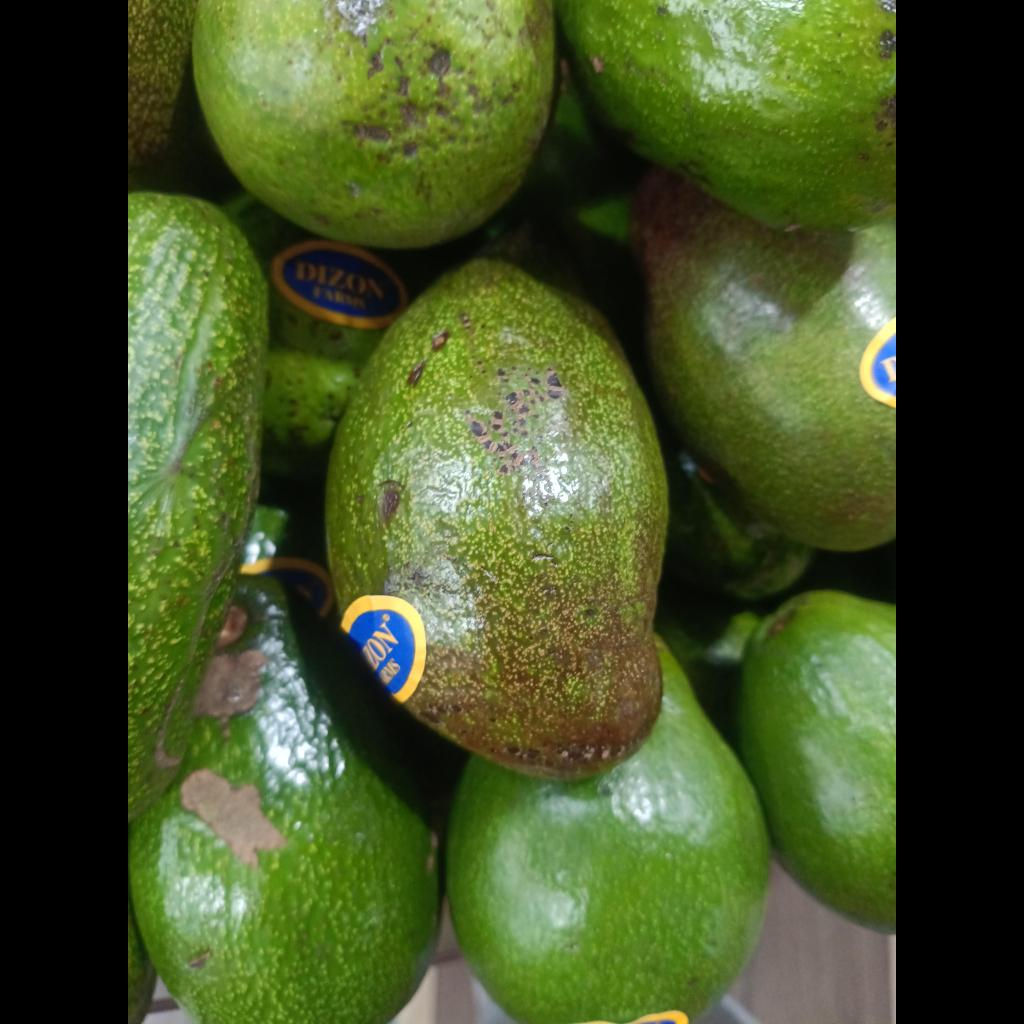scab: (326, 260, 667, 777)
